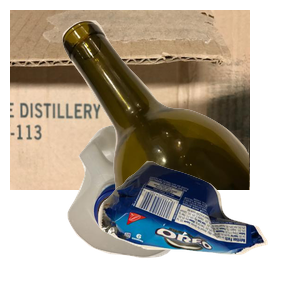cardboard: (10, 10, 250, 190)
glass: (60, 18, 300, 198)
plastic: (65, 123, 257, 300)
trash: (95, 158, 300, 300)
